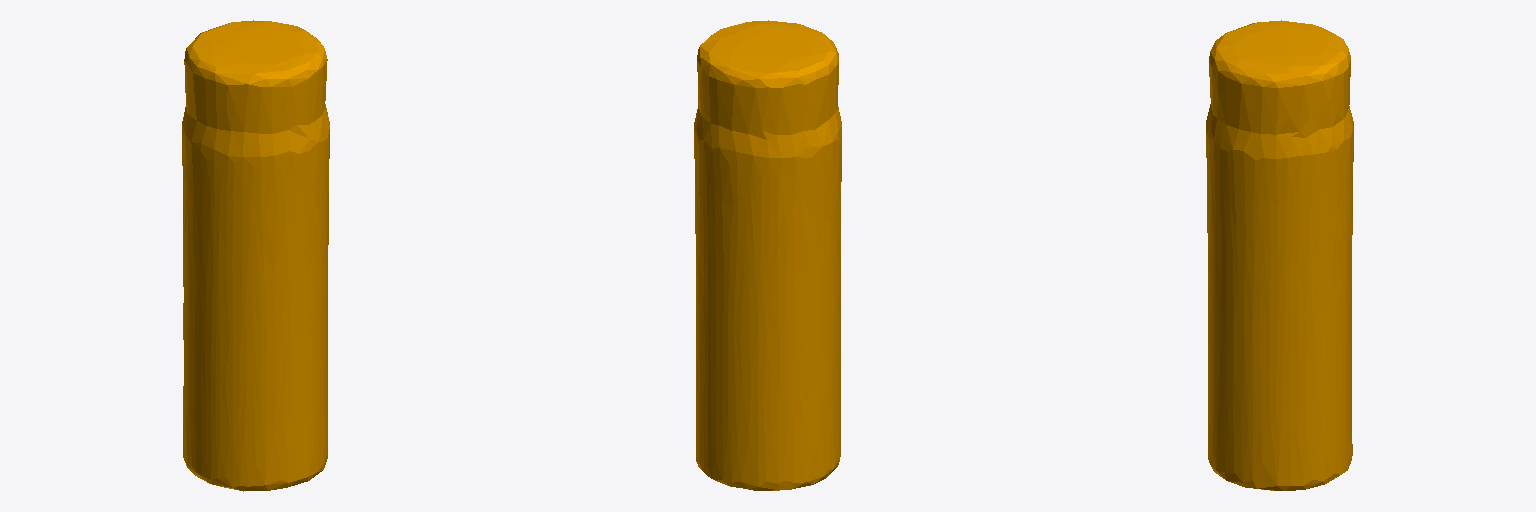
The robot description file, URDF, robot "shampoo_new_poisson_001":
<?xml version="1.0"?>
<robot name="shampoo_new_poisson_001">
  <link name="base_link">
    <contact>
      <lateral_friction value="1.0"/>
      <rolling_friction value="0.0"/>
      <contact_cfm value="0.0"/>
      <contact_erp value="1.0"/>
    </contact>
    <inertial>
      <mass value="0.547345587017"/>
      <inertia ixx="1" ixy="0" ixz="0" iyy="1" iyz="0" izz="1"/>
    </inertial>
    <visual>
      <geometry>
        <mesh filename="shampoo_new_poisson_001_visual.obj"/>
      </geometry>
    </visual>
    <collision>
      <geometry>
        <mesh filename="shampoo_new_poisson_001_collision.obj"/>
      </geometry>
    </collision>
  </link>
</robot>

--- Facts derived from the render (not from the file) ---
The picture shows the robot from 3 angles, left to right: view 1: azimuth 30°, elevation 25°; view 2: azimuth 150°, elevation 25°; view 3: azimuth 270°, elevation 25°; orthographic projection.
Model shampoo_new_poisson_001 with 1 links and 0 joints (none), rooted at base_link, posed all joints at 0.
Visible links, largest first — view 1: base_link; view 2: base_link; view 3: base_link.
Link boxes in pixels (x1=…): base_link: x1=182, y1=20, x2=329, y2=491; base_link: x1=694, y1=20, x2=841, y2=490; base_link: x1=1206, y1=20, x2=1353, y2=490.
Bounding box of the posed robot: 0.0699 × 0.0697 × 0.2173 m (x, y, z).
Meshes: 1 distinct files referenced, 1 mesh visuals loaded (1 OBJ).